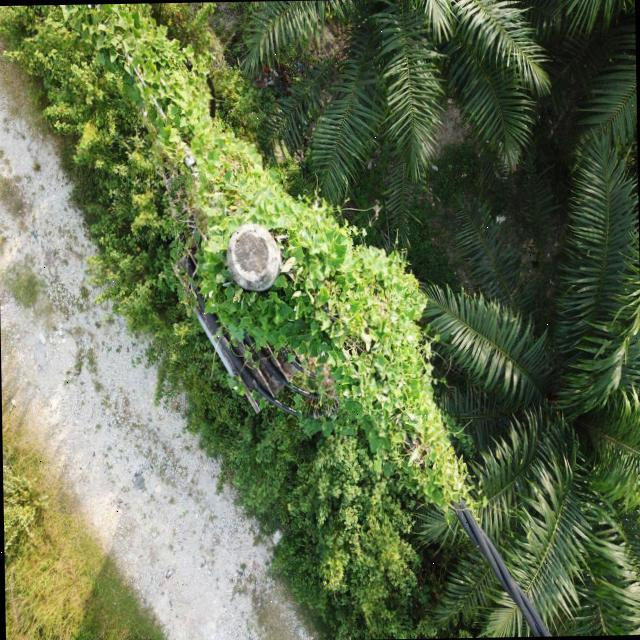critical vegetation: (118, 46, 471, 525)
